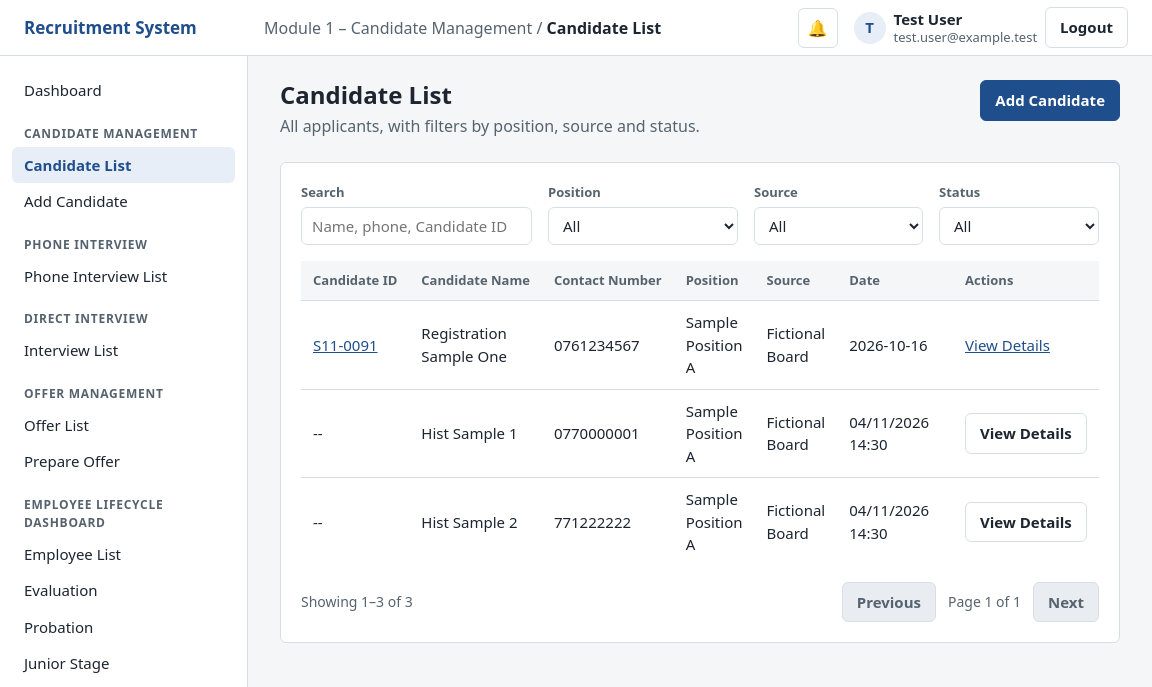
it: Candidate List: View Details by clicking › an imported record shows its details above the table, scrolled to and focused
Step 1. Click the button with aria-label "View details of record 3" → point(1026, 522), box x1=965 y1=502 x2=1087 y2=542
(page scrolled)
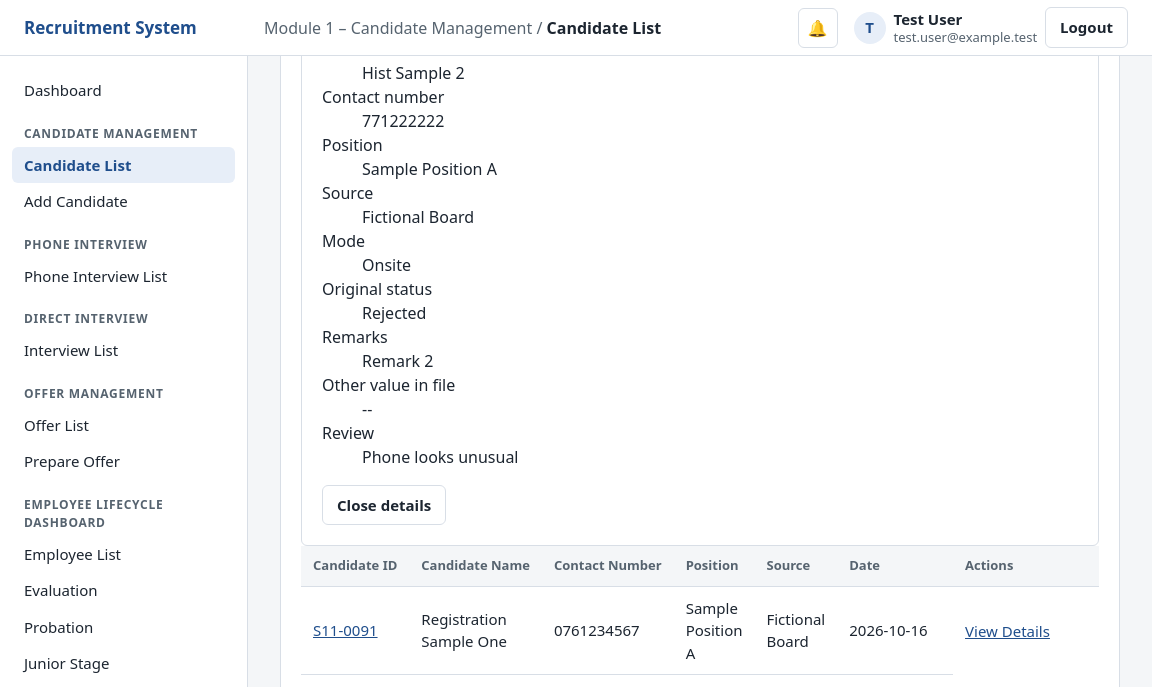
Expected: the text "Remark 2" is shown, x1=362 y1=350 x2=433 y2=372
